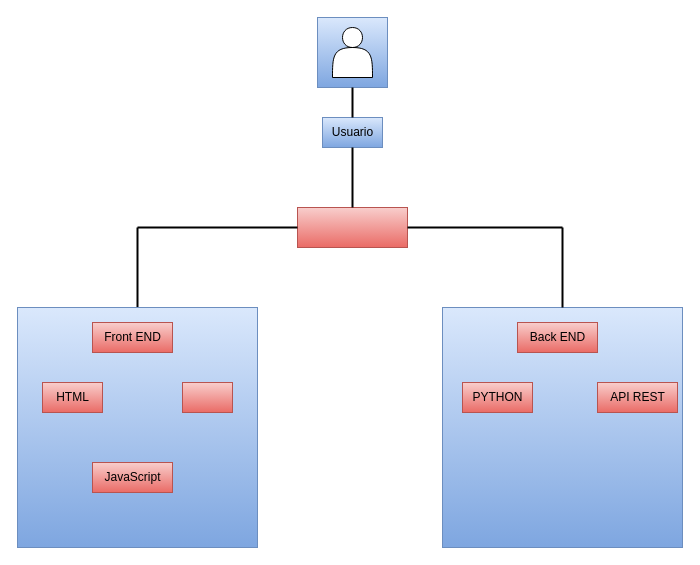
The diagram is 700 pixels wide and 565 high, and some of its shapes have lost their labels. The shapes that lost their labels are listed below. From the top down, each one's centre as x and y in pixels, then its label:
At (352,227): "Aplicacion Web".
At (207,397): "CSS".
